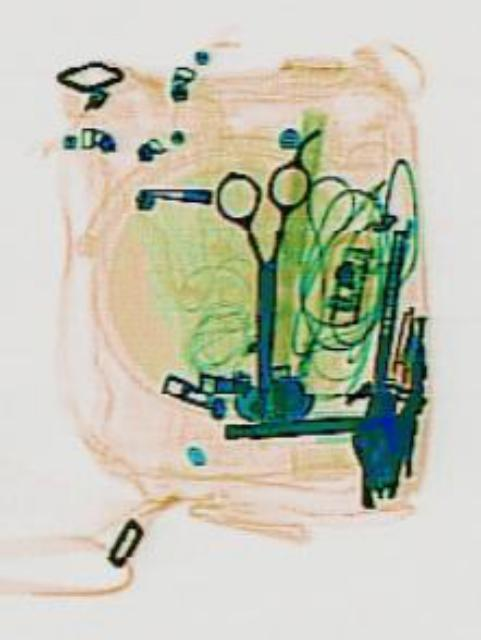Scissors: (212, 157, 307, 390)
